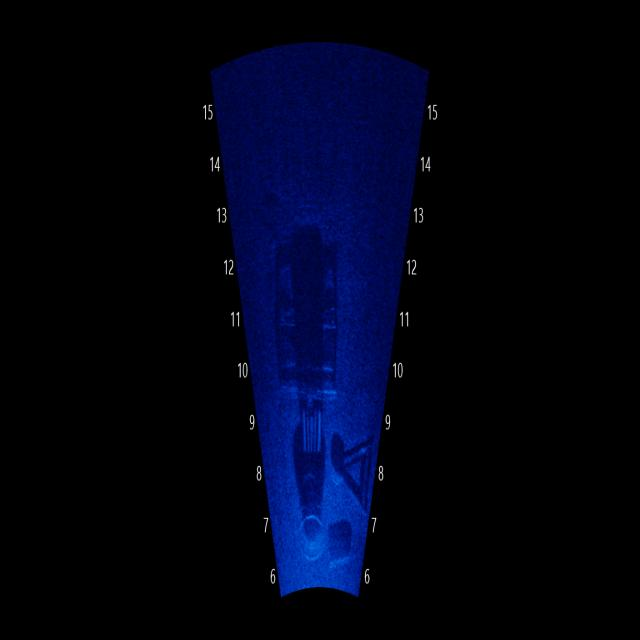circle: (281, 466, 331, 566)
square: (269, 198, 352, 401)
